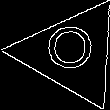O_S: (45, 27, 97, 80)
